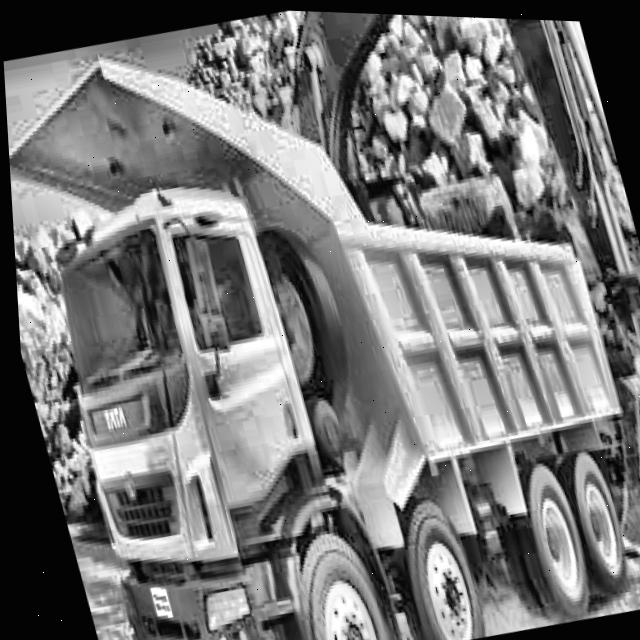dump_truck: (0, 0, 640, 640)
excavator: (295, 9, 640, 577)
